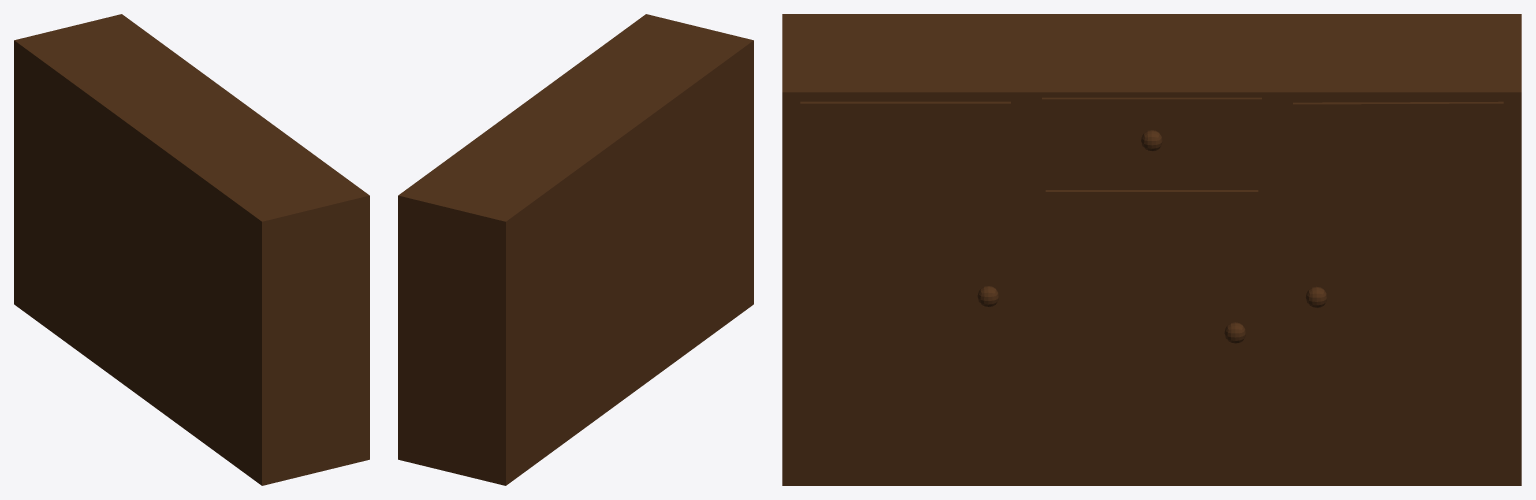
The model's file is Cabinet_v003(Basic).fbx.
3 renders of one model, left to right at view 1: azimuth 30°, elevation 25°; view 2: azimuth 150°, elevation 25°; view 3: azimuth 270°, elevation 25°, orthographic. The views are drawn at different scales.
Visible parts, largest first — view 1: Cabinet; view 2: Cabinet; view 3: Cabinet, Door_1, Door_3, Door_2, Drawer.
Part boxes in pixels (x1,y1,x2,y2): Cabinet: [14, 14, 369, 485]; Cabinet: [398, 14, 753, 485]; Cabinet: [782, 14, 1521, 485]; Door_1: [800, 101, 1010, 478]; Door_3: [1293, 101, 1503, 478]; Door_2: [1045, 190, 1258, 478]; Drawer: [1042, 97, 1261, 177].
Bounding box in the file's own units: 227 × 469 × 797.
